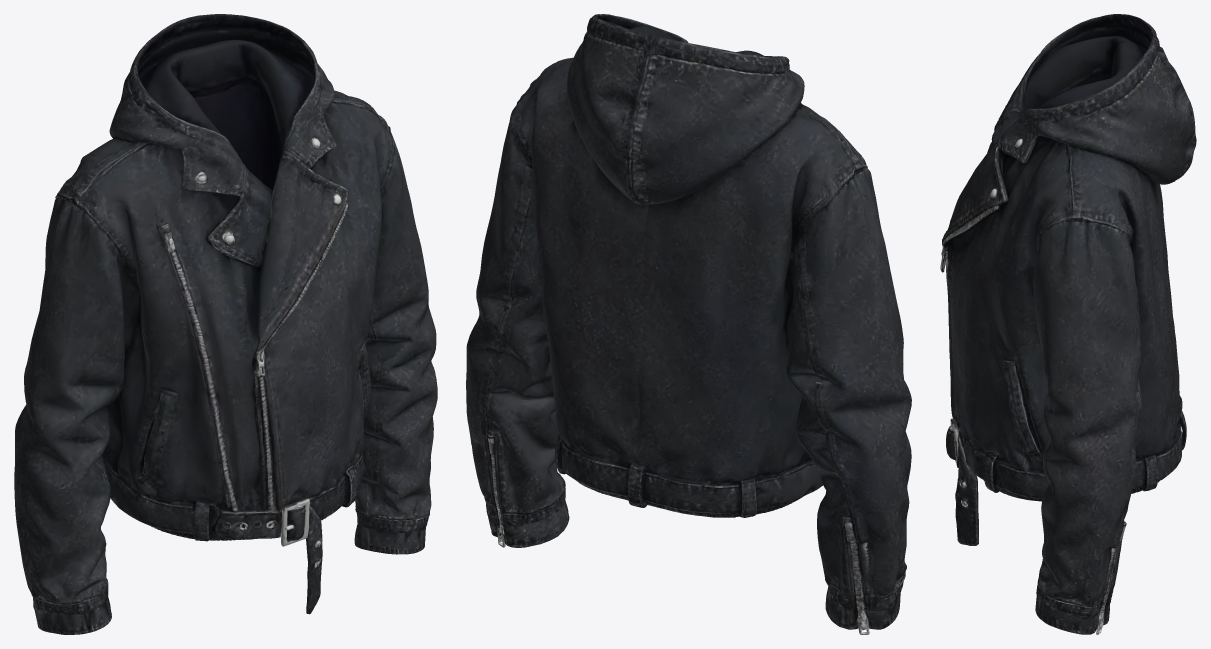
File: jacket-biker.glb
The picture shows the model from 3 angles, left to right: view 1: azimuth 30°, elevation 25°; view 2: azimuth 150°, elevation 25°; view 3: azimuth 270°, elevation 25°; orthographic projection. The views are drawn at different scales.
Parts seen in each view (by area): view 1: tripo_node_1a375d2c-7dd4-49b4-8883-be79ed1c8183; view 2: tripo_node_1a375d2c-7dd4-49b4-8883-be79ed1c8183; view 3: tripo_node_1a375d2c-7dd4-49b4-8883-be79ed1c8183.
Boxes of the visible parts, left/top/right/bottom form: tripo_node_1a375d2c-7dd4-49b4-8883-be79ed1c8183: left=14, top=14, right=437, bottom=634; tripo_node_1a375d2c-7dd4-49b4-8883-be79ed1c8183: left=466, top=14, right=911, bottom=634; tripo_node_1a375d2c-7dd4-49b4-8883-be79ed1c8183: left=940, top=14, right=1196, bottom=634.
Bounding box in the file's own units: 0.5662 × 0.7264 × 0.3246.
1 material, 1 textured.
